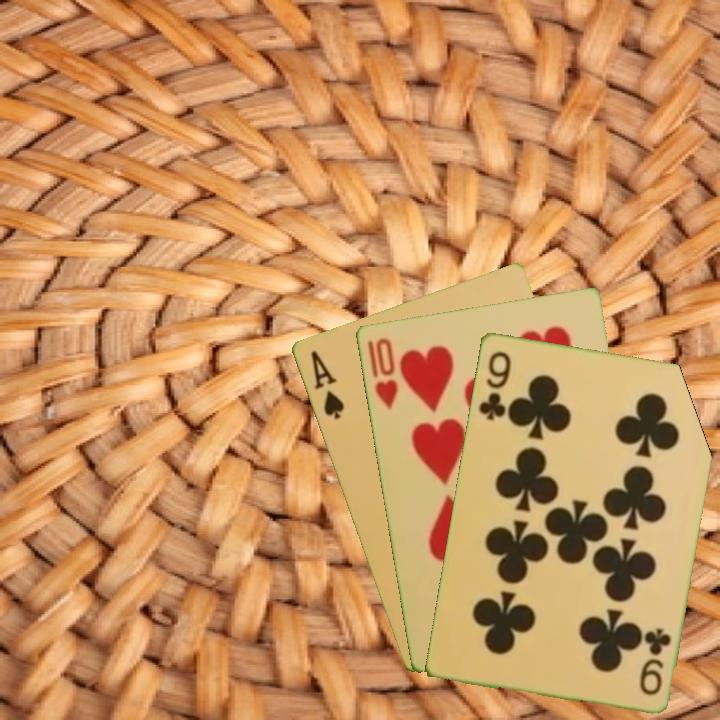10h: (363, 334, 401, 413)
9c: (475, 347, 514, 423), (635, 624, 674, 698)
As: (306, 346, 347, 422)
